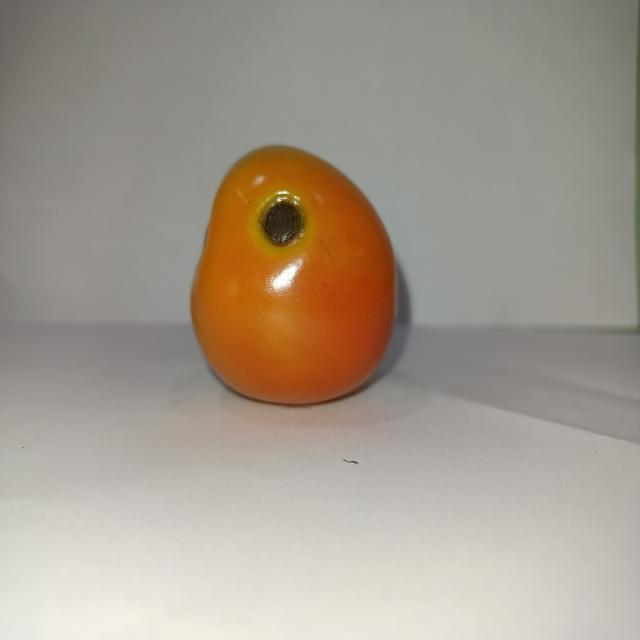Red: (188, 142, 399, 406)
